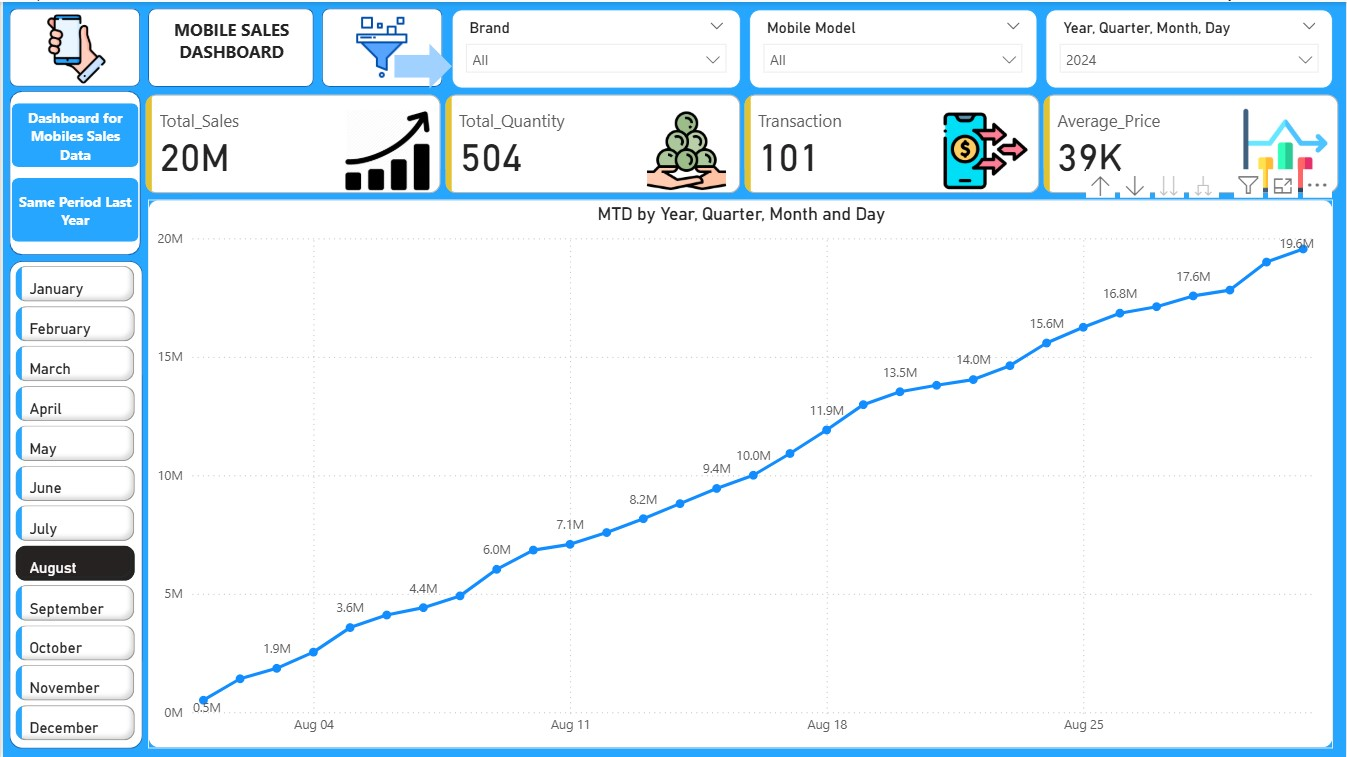

What the dashboard file says about the page in this screenshot:
{"tool":"powerbi","page":{"name":"MTD Report","canvas":[1280,720],"ordinal":1},"visuals":[{"type":"shape","box":[6,6,125,75],"z":0},{"type":"image","box":[8.3,7.1,123.8,75],"z":1000},{"type":"shape","box":[6,84.4,125.4,156.7],"z":2000},{"type":"cardVisual","fields":{"Data":["Mobiles_Sales_Data.Total_Sales","Mobiles_Sales_Data.Total_Quantity","Mobiles_Sales_Data.Transaction","Mobiles_Sales_Data.Average_Price"]},"box":[131.4,83.2,1148.8,104.9],"z":3000},{"type":"slicer","fields":{"Values":["Mobiles_Sales_Data.Brand"]},"box":[427,7,275,75],"z":4000},{"type":"shape","box":[303,6,115,75],"z":5000},{"type":"image","box":[303,8,114,70],"z":6000},{"type":"shape","box":[372.4,39.1,55.2,43.7],"z":7000},{"type":"shape","box":[138,6,158,75],"z":8000},{"type":"slicer","fields":{"Values":["Mobiles_Sales_Data.Mobile Model"]},"box":[711,7,274,75],"z":9000},{"type":"slicer","fields":{"Values":["Custom_Calender.Date.Variation.Date Hierarchy.Year","Custom_Calender.Date.Variation.Date Hierarchy.Quarter","Custom_Calender.Date.Variation.Date Hierarchy.Month","Custom_Calender.Date.Variation.Date Hierarchy.Day"]},"box":[992.9,7.1,273.8,75],"z":10000},{"type":"textbox","box":[145,10,145,67],"z":11000},{"type":"lineChart","fields":{"Y":["Mobiles_Sales_Data.MTD"],"Category":["Custom_Calender.Date.Variation.Date Hierarchy.Year","Custom_Calender.Date.Variation.Date Hierarchy.Quarter","Custom_Calender.Date.Variation.Date Hierarchy.Month","Custom_Calender.Date.Variation.Date Hierarchy.Day"]},"box":[138.1,188.1,1128.6,522.6],"z":12000},{"type":"shape","box":[6,246.4,127.4,465.5],"z":13000},{"type":"advancedSlicerVisual","fields":{"Values":["Custom_Calender.Date.Variation.Date Hierarchy.Month"]},"box":[7.3,246.3,123.2,464.6],"z":14000},{"type":"pageNavigator","box":[8.3,96.4,121.4,133.3],"z":14001}]}

Visuals, with their boxes in screenshot pixels (x1, y1, x2, y2), scaled from the page's 1280x720 canvas onto the 1347x757 screenshot:
shape: [x1=6, y1=6, x2=138, y2=85]
image: [x1=9, y1=7, x2=139, y2=86]
shape: [x1=6, y1=89, x2=138, y2=253]
cardVisual - Mobiles_Sales_Data.Total_Sales x Mobiles_Sales_Data.Total_Quantity: [x1=138, y1=87, x2=1346, y2=198]
slicer - Mobiles_Sales_Data.Brand: [x1=449, y1=7, x2=739, y2=86]
shape: [x1=319, y1=6, x2=440, y2=85]
image: [x1=319, y1=8, x2=439, y2=82]
shape: [x1=392, y1=41, x2=450, y2=87]
shape: [x1=145, y1=6, x2=311, y2=85]
slicer - Mobiles_Sales_Data.Mobile Model: [x1=748, y1=7, x2=1037, y2=86]
slicer - Custom_Calender.Date.Variation.Date Hierarchy.Year x Custom_Calender.Date.Variation.Date Hierarchy.Quarter: [x1=1045, y1=7, x2=1333, y2=86]
textbox: [x1=153, y1=11, x2=305, y2=81]
lineChart - Mobiles_Sales_Data.MTD x Custom_Calender.Date.Variation.Date Hierarchy.Year: [x1=145, y1=198, x2=1333, y2=747]
shape: [x1=6, y1=259, x2=140, y2=748]
advancedSlicerVisual - Custom_Calender.Date.Variation.Date Hierarchy.Month: [x1=8, y1=259, x2=137, y2=747]
pageNavigator: [x1=9, y1=101, x2=136, y2=242]
